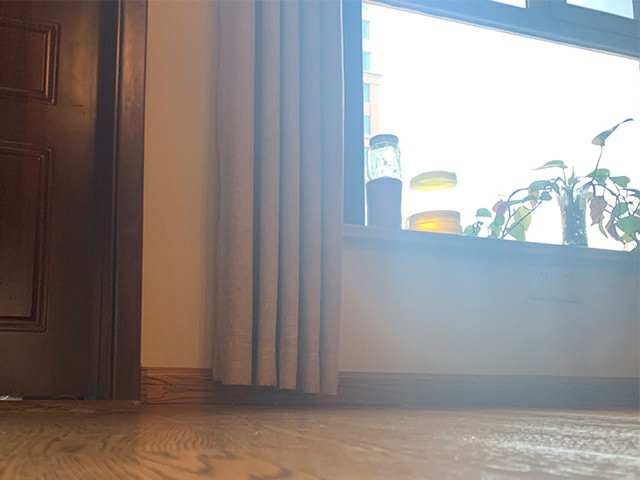curtain: (210, 1, 348, 395)
